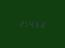five: (33, 20, 37, 28)
four: (28, 19, 32, 27)
one: (23, 19, 27, 27)
two: (18, 19, 22, 27), (38, 20, 42, 28)
